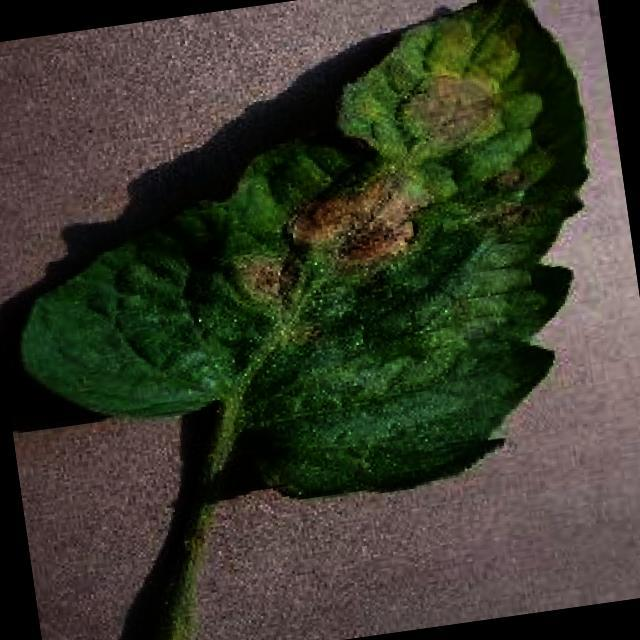Tomato late blight leaf: (0, 0, 635, 540)
